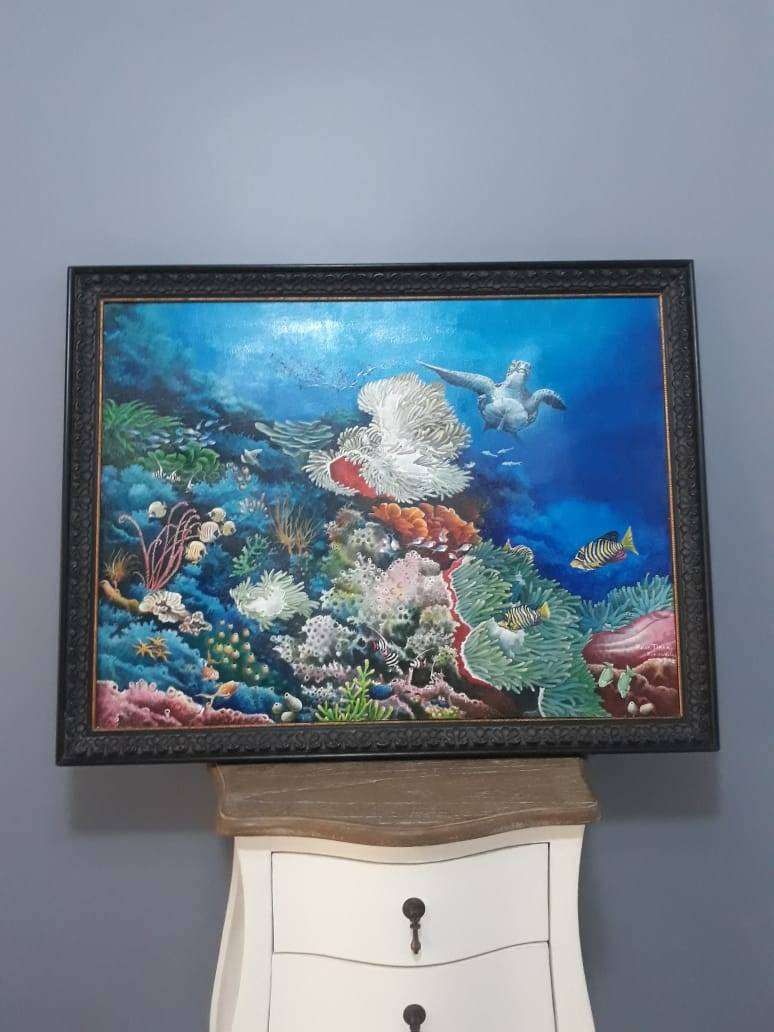lukisan: (50, 250, 737, 794)
